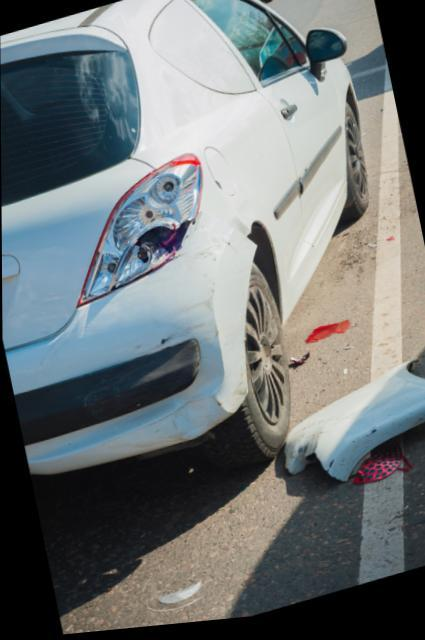dent: (119, 395, 213, 453)
lamp broken: (74, 157, 200, 308)
